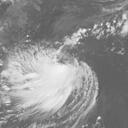cyclone: (2, 46, 98, 118)
